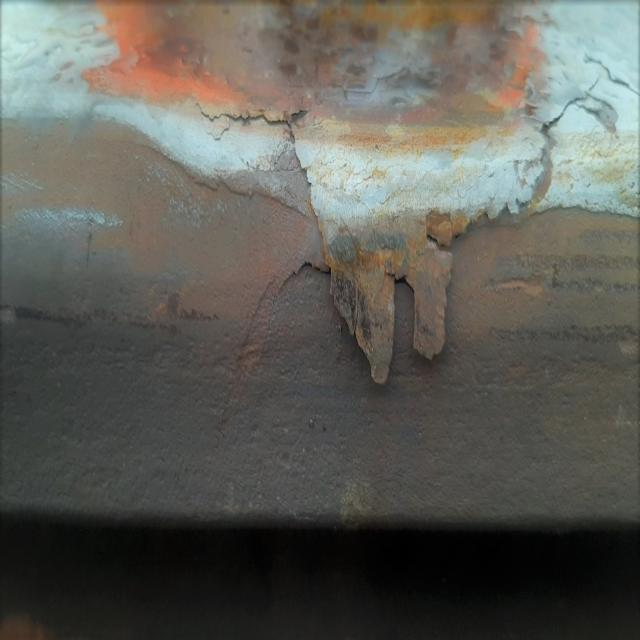broken_rail_medium: (196, 74, 602, 388), (583, 51, 638, 99)
